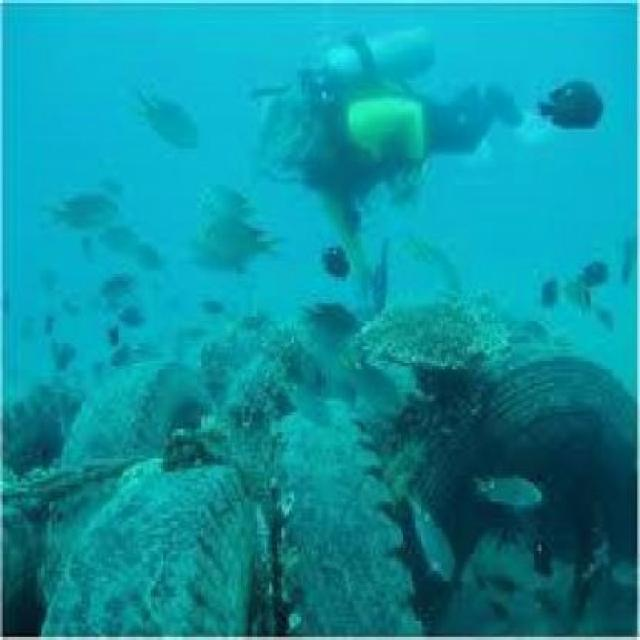tire: (371, 317, 640, 640), (84, 438, 302, 640), (69, 343, 248, 534)
